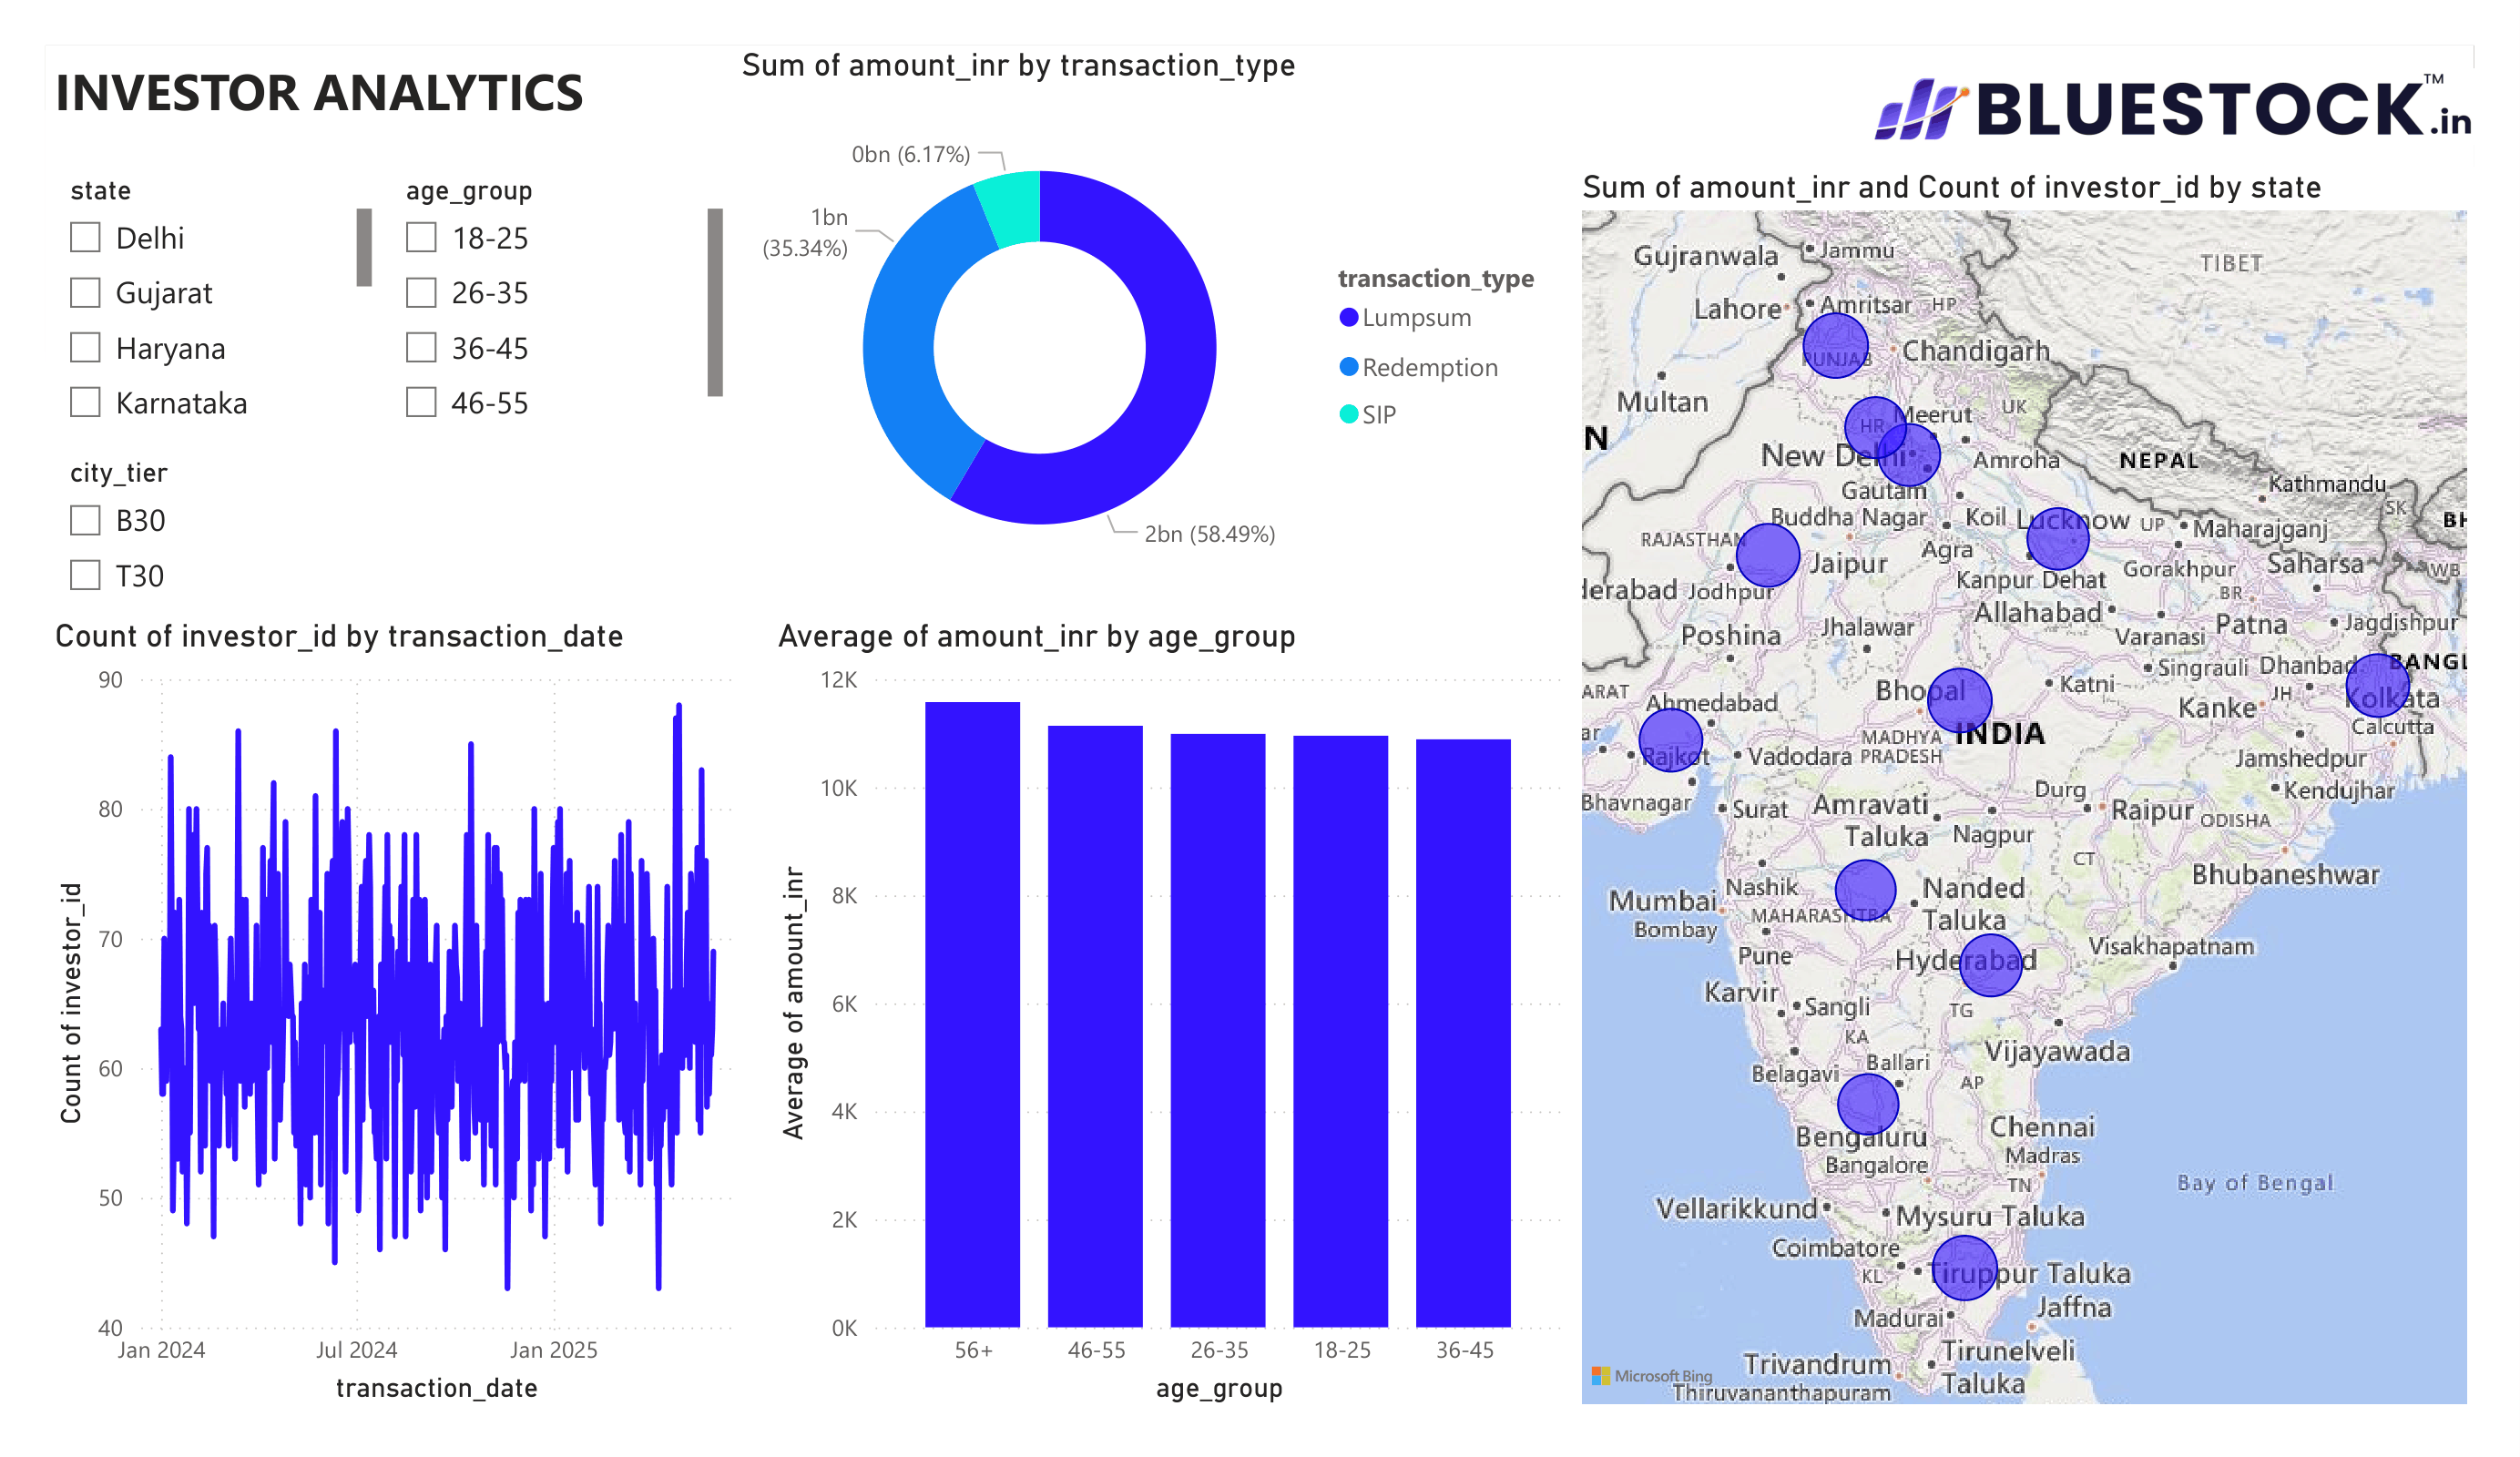

What the dashboard file says about the page in this screenshot:
{"tool":"powerbi","page":{"name":"Page 3","canvas":[1280,720],"ordinal":2},"visuals":[{"type":"textbox","box":[0,0,324,63.5],"z":0},{"type":"slicer","fields":{"Values":["clean_transactions.state"]},"box":[0,63.3,176.7,148.9],"z":1000},{"type":"slicer","fields":{"Values":["clean_transactions.age_group"]},"box":[176.7,63.3,185.6,148.9],"z":2000},{"type":"slicer","fields":{"Values":["clean_transactions.city_tier"]},"box":[0,212.2,123.3,97.8],"z":3000},{"type":"map","fields":{"Category":["clean_transactions.state"],"Size":["Sum(clean_transactions.amount_inr)"]},"box":[804.9,63.5,475.7,657.1],"z":4000},{"type":"donutChart","fields":{"Category":["clean_transactions.transaction_type"],"Y":["Sum(clean_transactions.amount_inr)"]},"box":[361.6,0,443.3,300.7],"z":5000},{"type":"clusteredColumnChart","fields":{"Category":["clean_transactions.age_group"],"Y":["Avg(clean_transactions.amount_inr)"]},"box":[381,300.7,423.8,419.9],"z":6000},{"type":"lineChart","fields":{"Category":["clean_transactions.transaction_date"],"Y":["CountNonNull(clean_transactions.investor_id)"]},"box":[0,300.7,381,419.9],"z":7000},{"type":"image","box":[963,0,317.5,63.5],"z":7001}]}

Visuals, with their boxes on the page's 1280x720 design canvas (x1, y1, x2, y2). These are canvas units, not pixel positions in the 2520x1457 screenshot, which may show the page scaled, cropped or inside an application window:
textbox: <bbox>0, 0, 324, 64</bbox>
slicer - clean_transactions.state: <bbox>0, 63, 177, 212</bbox>
slicer - clean_transactions.age_group: <bbox>177, 63, 362, 212</bbox>
slicer - clean_transactions.city_tier: <bbox>0, 212, 123, 310</bbox>
map - clean_transactions.state x Sum(clean_transactions.amount_inr): <bbox>805, 64, 1281, 721</bbox>
donutChart - clean_transactions.transaction_type x Sum(clean_transactions.amount_inr): <bbox>362, 0, 805, 301</bbox>
clusteredColumnChart - clean_transactions.age_group x Avg(clean_transactions.amount_inr): <bbox>381, 301, 805, 721</bbox>
lineChart - clean_transactions.transaction_date x CountNonNull(clean_transactions.investor_id): <bbox>0, 301, 381, 721</bbox>
image: <bbox>963, 0, 1280, 64</bbox>
